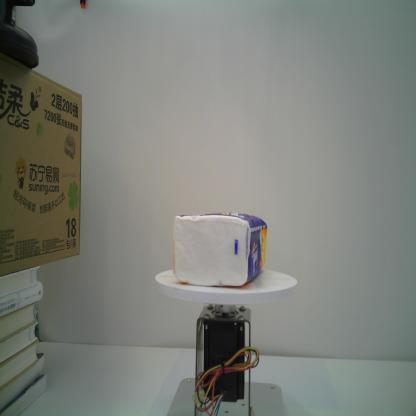Tissue: (172, 211, 268, 288)
